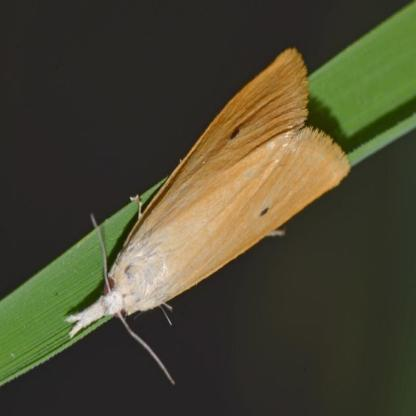stem-borer: (62, 46, 350, 388)
